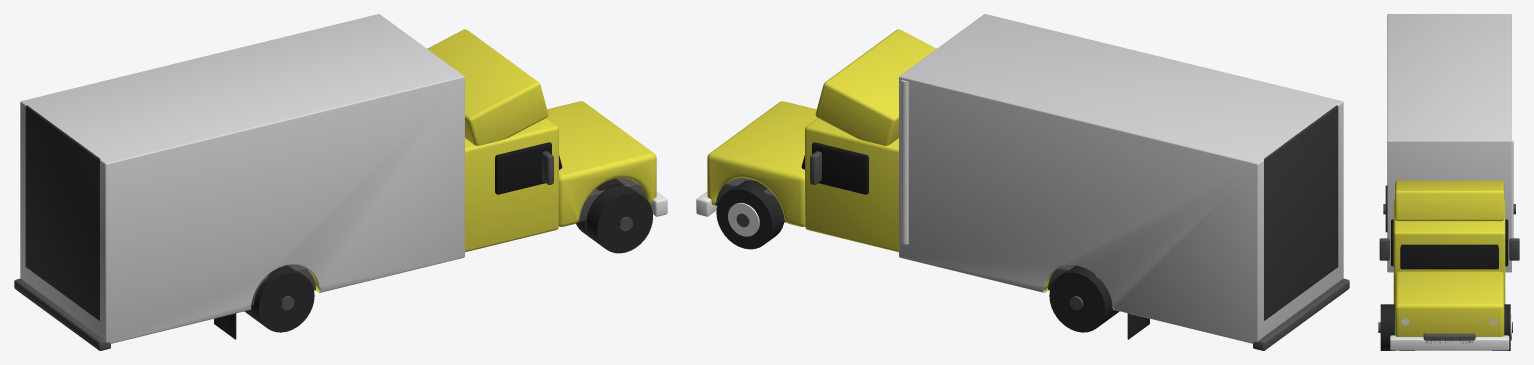
Rendered from truck.fbx.
The picture shows the model from 3 angles, left to right: view 1: azimuth 30°, elevation 25°; view 2: azimuth 150°, elevation 25°; view 3: azimuth 270°, elevation 25°; orthographic projection. The views are drawn at different scales.
Visible parts, largest first — view 1: Truck_Cargo_Box, Rear_Door, Truck_Cabin, Truck_Hood, Air_Deflector, Wheel_FR_Tire_Out, Wheel_RR_Tire_Out, Window_Side_R, Bumper_Rear, WheelWell_Block_F; view 2: Truck_Cargo_Box, Rear_Door, Truck_Cabin, Truck_Hood, Air_Deflector, Wheel_RL_Tire_Out, Wheel_FL_Tire, Window_Side_L, Bumper_Rear, Exhaust_Stack, Wheel_FL_Rim, WheelWell_Block_F; view 3: Truck_Cargo_Box, Truck_Hood, Air_Deflector, Truck_Cabin, Windshield, Bumper_Front, Wheel_FR_Tire_Out, Frame_Rails, Wheel_FL_Tire, Mirror_L, Mirror_R, Exhaust_Stack (+3 smaller).
Part boxes in pixels (box(x1,y1,x2,y2)): Truck_Cargo_Box: box(20, 14, 464, 343); Rear_Door: box(25, 105, 100, 320); Truck_Cabin: box(465, 118, 558, 252); Truck_Hood: box(546, 101, 656, 226); Air_Deflector: box(427, 29, 548, 145); Wheel_FR_Tire_Out: box(586, 185, 652, 253); Wheel_RR_Tire_Out: box(249, 265, 314, 332); Window_Side_R: box(495, 142, 551, 194); Bumper_Rear: box(14, 278, 110, 350); WheelWell_Block_F: box(578, 178, 647, 222); Truck_Cargo_Box: box(899, 14, 1343, 343); Rear_Door: box(1263, 105, 1338, 320); Truck_Cabin: box(805, 118, 898, 252); Truck_Hood: box(707, 101, 817, 226); Air_Deflector: box(815, 29, 936, 145); Wheel_RL_Tire_Out: box(1049, 265, 1114, 332); Wheel_FL_Tire: box(716, 180, 783, 249); Window_Side_L: box(812, 142, 868, 194); Bumper_Rear: box(1253, 278, 1349, 350); Exhaust_Stack: box(901, 80, 908, 244); Wheel_FL_Rim: box(728, 202, 759, 236); WheelWell_Block_F: box(714, 178, 785, 222); Truck_Cargo_Box: box(1387, 14, 1511, 272); Truck_Hood: box(1395, 271, 1504, 336); Air_Deflector: box(1395, 180, 1504, 221); Truck_Cabin: box(1393, 199, 1505, 304); Windshield: box(1400, 244, 1498, 269); Bumper_Front: box(1390, 335, 1509, 350); Wheel_FR_Tire_Out: box(1380, 304, 1395, 350); Frame_Rails: box(1423, 333, 1475, 343); Wheel_FL_Tire: box(1492, 304, 1510, 350); Mirror_L: box(1509, 238, 1519, 260); Mirror_R: box(1379, 238, 1389, 260); Exhaust_Stack: box(1512, 140, 1513, 238).
Bounding box in the file's own units: 9.2 × 2.73 × 3.25.
